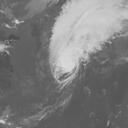cyclone: (46, 37, 83, 85)
